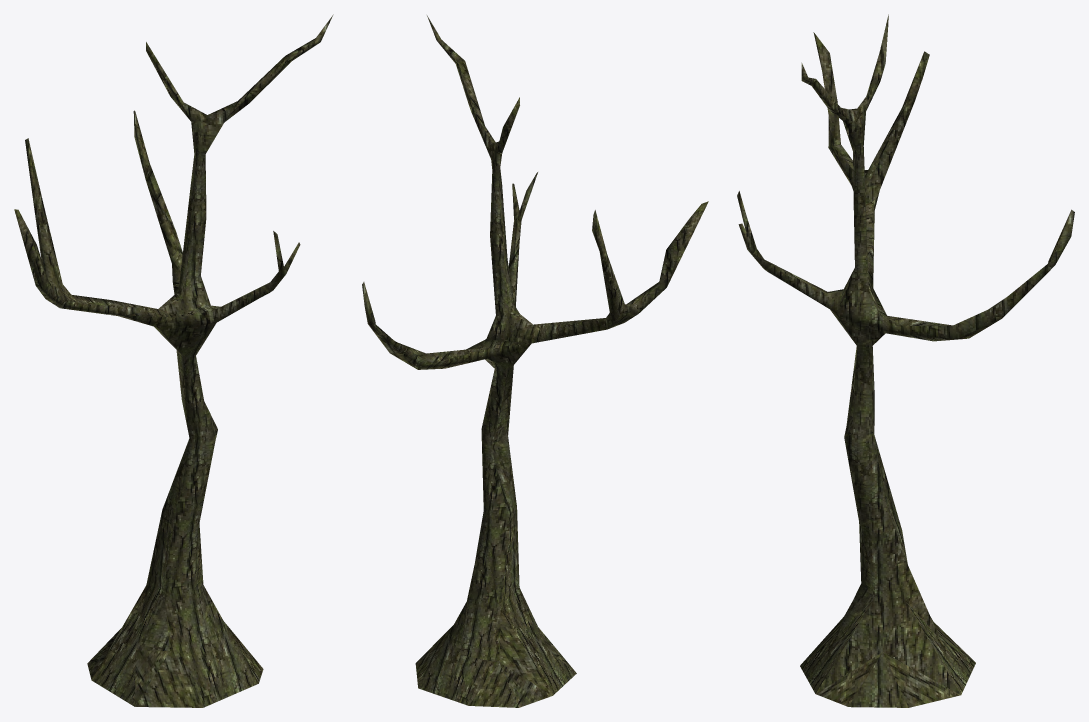
File: tree_dead_5.glb
The picture shows the model from 3 angles, left to right: view 1: azimuth 30°, elevation 25°; view 2: azimuth 150°, elevation 25°; view 3: azimuth 270°, elevation 25°; orthographic projection. The views are drawn at different scales.
Parts seen in each view (by area): view 1: tree_dead_5; view 2: tree_dead_5; view 3: tree_dead_5.
Part boxes in pixels (bbox=[...]): tree_dead_5: bbox=[14, 14, 333, 707]; tree_dead_5: bbox=[362, 15, 708, 707]; tree_dead_5: bbox=[737, 14, 1074, 707].
Size of the model in its own units: 3.37 by 6.78 by 3.1.
Materials: 1 (1 with a texture image).
